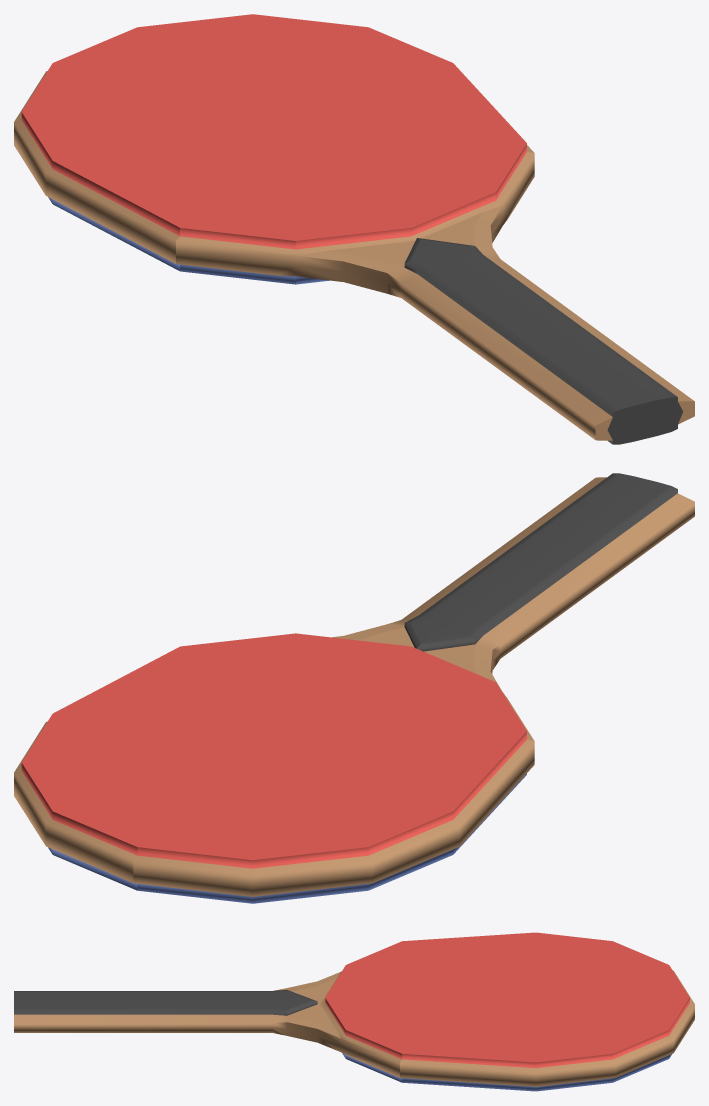
Rendered from pingPongRaqueta.fbx.
3 views of the same model, one above another, from view 1: azimuth 30°, elevation 25°; view 2: azimuth 150°, elevation 25°; view 3: azimuth 270°, elevation 25° (orthographic). The views are drawn at different scales.
Visible parts, largest first — view 1: Cylinder; view 2: Cylinder; view 3: Cylinder.
Boxes of the visible parts, x1,y1,x2,y2 form: Cylinder: (14, 14, 694, 444); Cylinder: (14, 473, 694, 903); Cylinder: (14, 932, 694, 1091).
Bounding box in the file's own units: 2.07 × 4.43 × 0.2079.
